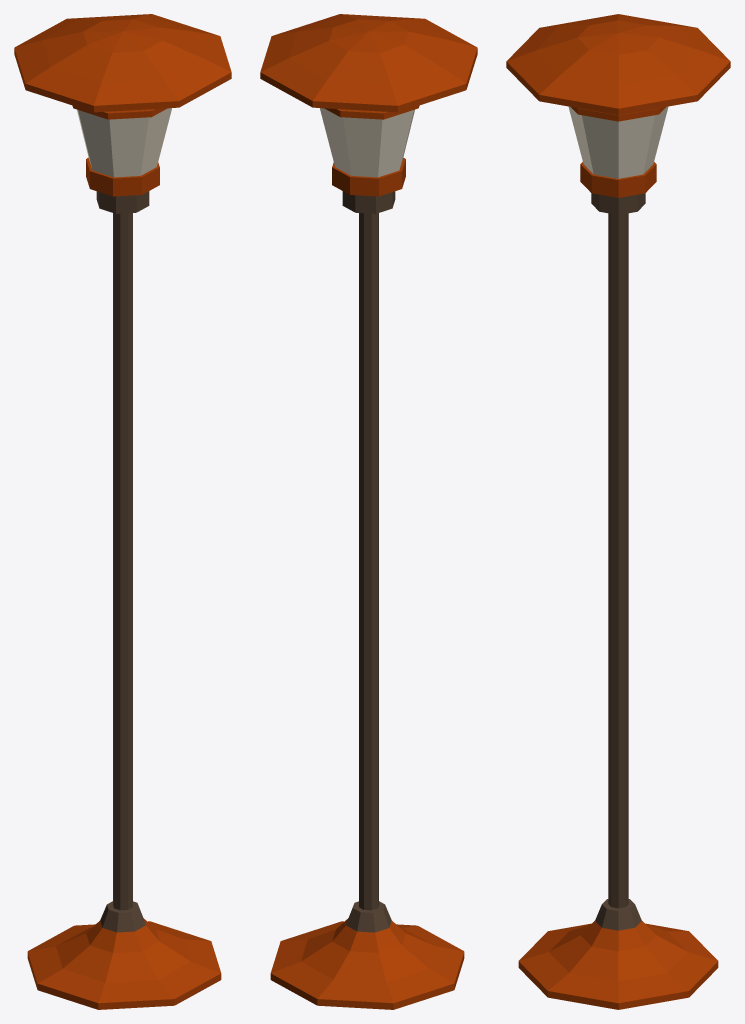
File: GEO_poor_lantern_1.fbx
3 renders of one model, left to right at view 1: azimuth 30°, elevation 25°; view 2: azimuth 150°, elevation 25°; view 3: azimuth 270°, elevation 25°, orthographic.
Visible parts, largest first — view 1: Poor_Single_Lantern; view 2: Poor_Single_Lantern; view 3: Poor_Single_Lantern.
Part boxes in pixels (x1,y1,x2,y2): Poor_Single_Lantern: (14,14,231,1009); Poor_Single_Lantern: (260,14,477,1009); Poor_Single_Lantern: (506,14,730,1009).
Size of the model in its own units: 65.75 by 302 by 65.75.
